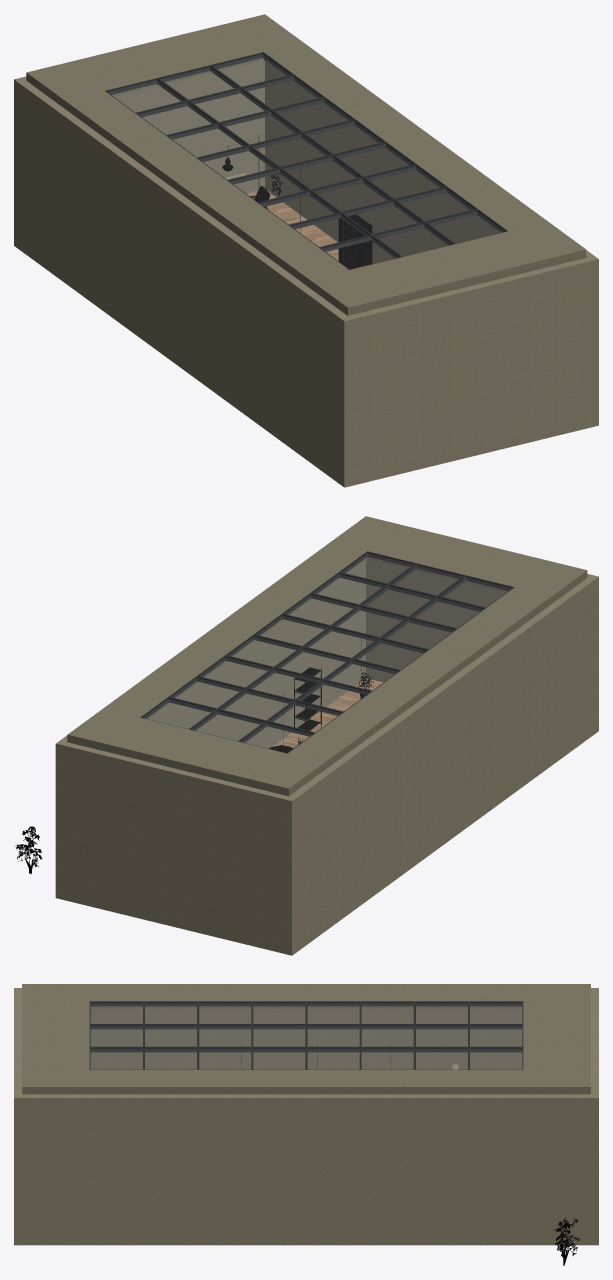
Rendered from atelier-mobile.glb.
The picture shows the model from 3 angles, top to bottom: view 1: azimuth 30°, elevation 25°; view 2: azimuth 150°, elevation 25°; view 3: azimuth 270°, elevation 25°; orthographic projection. The views are drawn at different scales.
Parts seen in each view (by area): view 1: room_walls, room_ceiling, decor_steel, prop_blog_mesh, room_floor; view 2: room_walls, room_ceiling, decor_steel, room_floor, decor_mesh, decor_plants; view 3: room_walls, room_ceiling, decor_steel, decor_plants.
Boxes of the visible parts, x1=… form: room_walls: x1=14, y1=60, x2=598, y2=487; room_ceiling: x1=26, y1=14, x2=586, y2=315; decor_steel: x1=105, y1=52, x2=507, y2=269; prop_blog_mesh: x1=338, y1=214, x2=372, y2=269; room_floor: x1=247, y1=191, x2=338, y2=260; room_walls: x1=55, y1=559, x2=598, y2=955; room_ceiling: x1=67, y1=516, x2=587, y2=796; decor_steel: x1=140, y1=551, x2=514, y2=753; room_floor: x1=273, y1=678, x2=382, y2=748; decor_mesh: x1=294, y1=667, x2=361, y2=736; decor_plants: x1=15, y1=672, x2=373, y2=874; room_walls: x1=14, y1=988, x2=598, y2=1245; room_ceiling: x1=22, y1=984, x2=590, y2=1094; decor_steel: x1=89, y1=1001, x2=523, y2=1069; decor_plants: x1=553, y1=1218, x2=579, y2=1265.
Size of the model in its own units: 11.92 by 6.44 by 21.59.
Materials: 21 (16 with a texture image).
